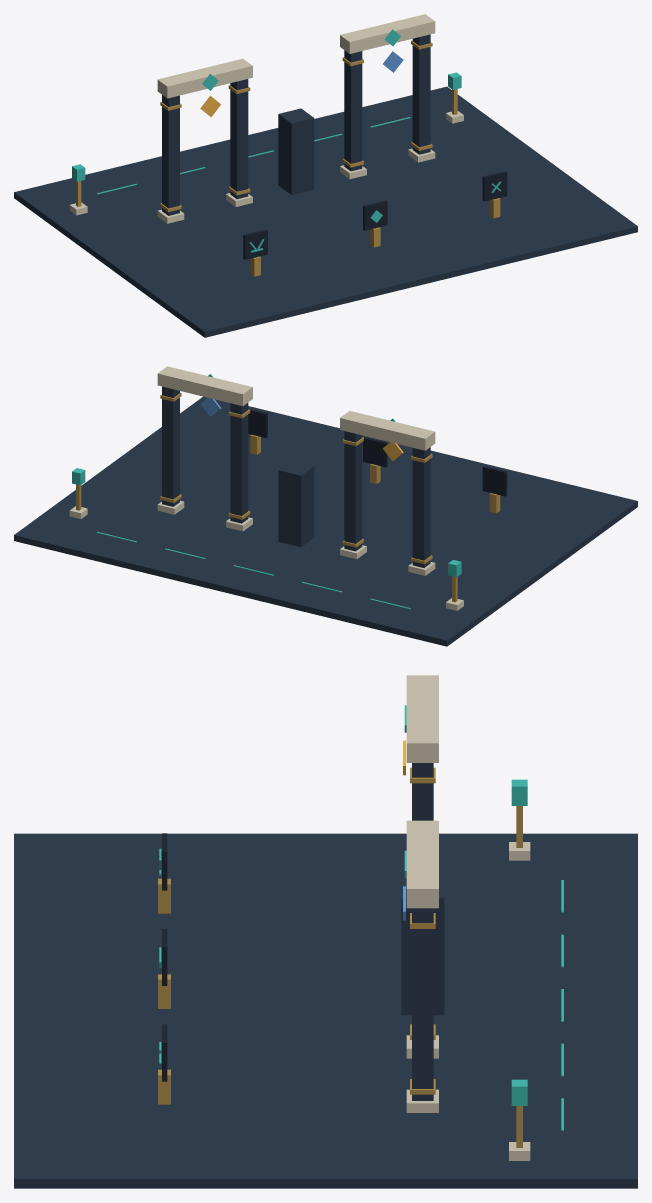
File: twin_doors.glb
3 renders of one model, top to bottom at view 1: azimuth 30°, elevation 25°; view 2: azimuth 150°, elevation 25°; view 3: azimuth 270°, elevation 25°, orthographic. The views are drawn at different scales.
Parts seen in each view (by area): view 1: twin_doors; view 2: twin_doors; view 3: twin_doors.
Part boxes in pixels (x1,y1,x2,y2): twin_doors: (14,14,637,337); twin_doors: (14,366,637,646); twin_doors: (14,675,637,1188).
Size of the model in its own units: 76 by 24.41 by 58.
